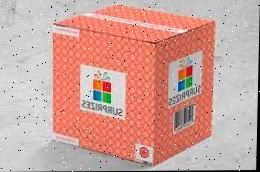cube: (49, 5, 214, 165)
